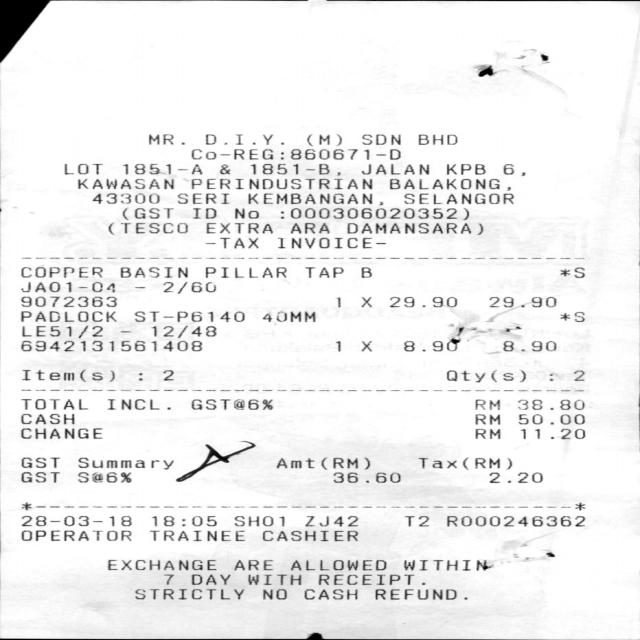text: (190, 148, 400, 160), (280, 208, 468, 220), (190, 178, 371, 189), (21, 340, 200, 351), (346, 222, 482, 235), (246, 193, 382, 205), (446, 515, 584, 526), (388, 178, 509, 190), (134, 310, 243, 322), (20, 515, 131, 526), (403, 193, 512, 204), (134, 588, 243, 599), (276, 237, 384, 248), (76, 457, 175, 469), (22, 369, 113, 382), (249, 163, 339, 176), (20, 310, 115, 322), (21, 324, 102, 338), (417, 457, 511, 469), (275, 457, 369, 469), (21, 530, 130, 540), (106, 560, 215, 570), (190, 396, 273, 409), (76, 178, 172, 189), (262, 530, 356, 541), (446, 369, 525, 382), (21, 281, 113, 292), (375, 588, 457, 600), (20, 266, 101, 278), (205, 266, 285, 278), (148, 530, 244, 540), (289, 560, 385, 570), (20, 296, 115, 306), (317, 574, 412, 584), (108, 222, 186, 234), (402, 560, 492, 570), (121, 163, 201, 174), (150, 325, 215, 338), (205, 133, 274, 145), (119, 266, 187, 278), (20, 428, 101, 438), (91, 192, 158, 204), (360, 163, 428, 174), (388, 296, 456, 307), (19, 398, 87, 409), (162, 280, 215, 294), (402, 339, 459, 352), (206, 222, 272, 233), (489, 296, 555, 307), (517, 399, 583, 410), (519, 428, 584, 439), (151, 515, 216, 526), (517, 414, 584, 424), (332, 472, 399, 482), (121, 207, 172, 220), (262, 310, 314, 322), (304, 588, 356, 600), (204, 237, 257, 248), (502, 340, 555, 351), (21, 413, 74, 424), (77, 471, 130, 482), (304, 515, 356, 526), (177, 193, 228, 204), (106, 398, 156, 409), (233, 515, 283, 526), (488, 472, 541, 482), (247, 574, 300, 584), (305, 266, 342, 278), (306, 134, 341, 146), (418, 134, 456, 145), (63, 163, 101, 174), (446, 163, 484, 174), (290, 222, 328, 233), (20, 457, 58, 468), (20, 471, 58, 482), (190, 574, 230, 584), (361, 134, 400, 144), (233, 560, 272, 570), (148, 134, 183, 144), (558, 266, 584, 278), (262, 588, 286, 600), (558, 311, 584, 322), (403, 515, 428, 526), (503, 163, 524, 176), (474, 398, 498, 409), (475, 428, 499, 439), (234, 208, 258, 218), (474, 414, 498, 424), (192, 208, 215, 218), (568, 369, 583, 382), (360, 266, 371, 278), (218, 164, 229, 174), (360, 296, 370, 307), (360, 340, 370, 350), (163, 370, 172, 380), (163, 574, 172, 584), (334, 340, 340, 350), (335, 296, 339, 307)
